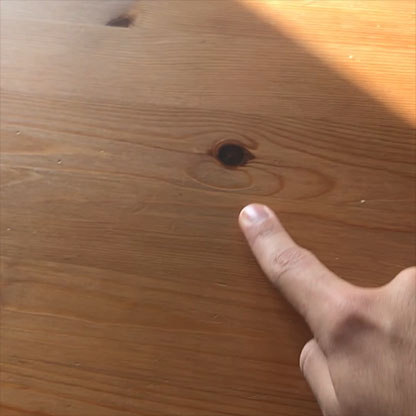fingertip: (230, 193, 281, 239)
